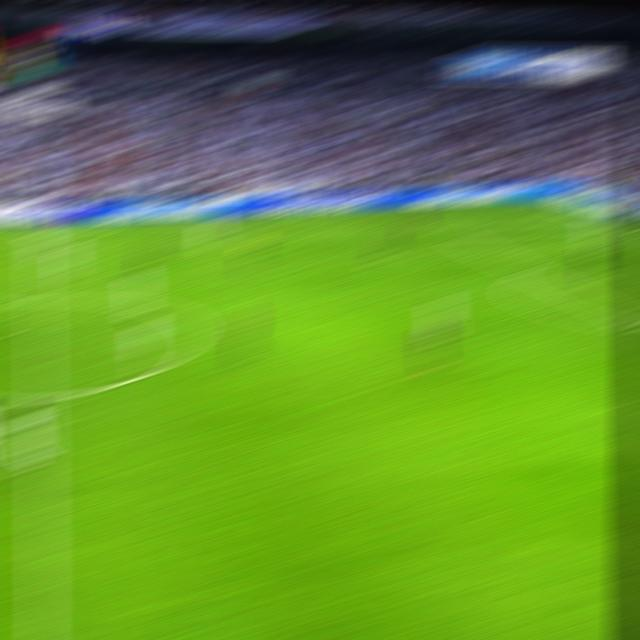bigarea_bottom_outter: (514, 262, 537, 275)
halfcircle_bottom: (26, 382, 55, 410)
halfcircle_top: (24, 287, 53, 312)
midline_top_intersection: (25, 225, 53, 233)
